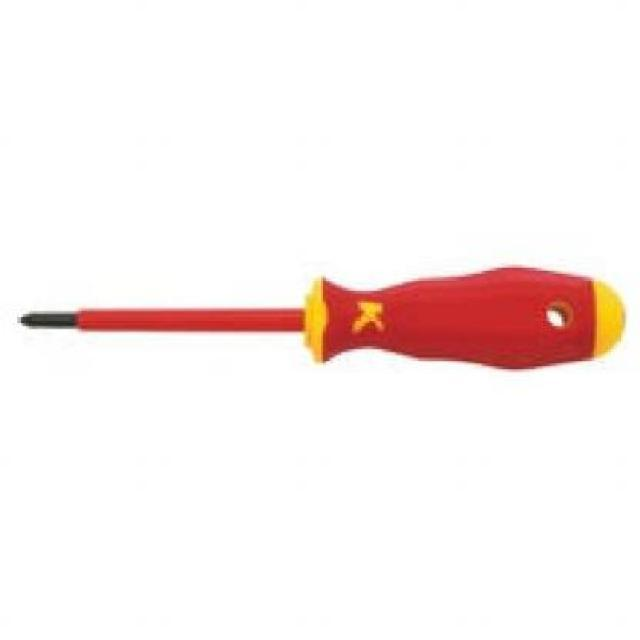screwdriver: (18, 264, 632, 372)
